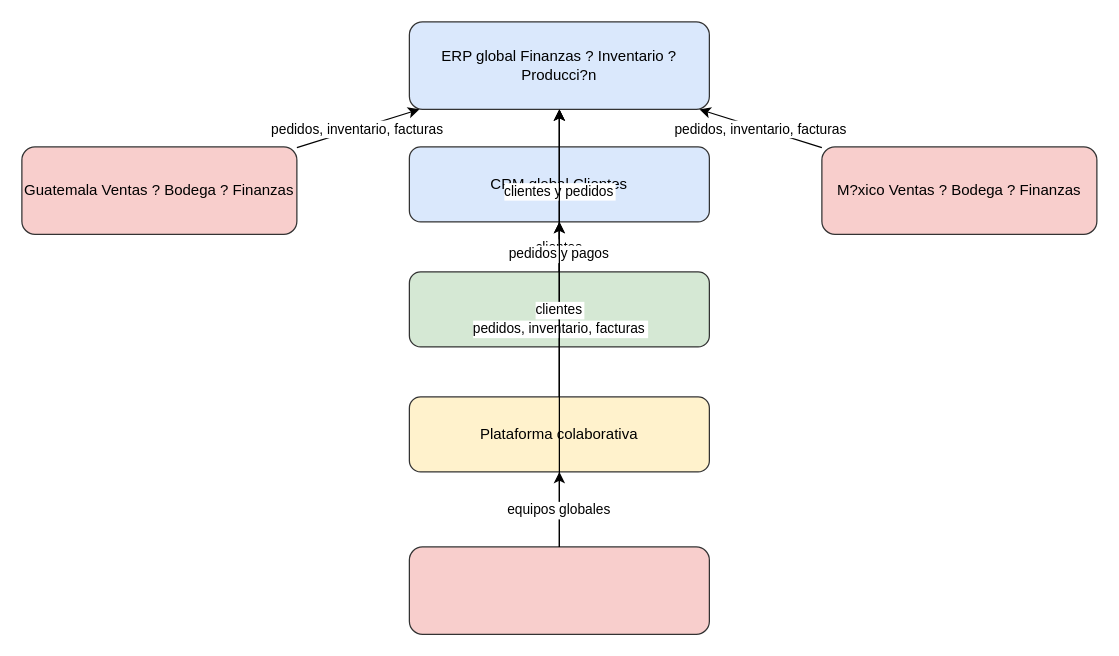
The diagram is 1119 pixels wide and 656 high, and some of its shapes have lost their labels. The shapes that lost their labels are listed below. From the top down, each one's box as (x1, y1, x2, y2) in pixels, then its label:
(408, 271, 709, 347): Tienda en l?nea Pagos internacionales
(408, 546, 709, 634): El Salvador Ventas ? Bodega ? Finanzas
